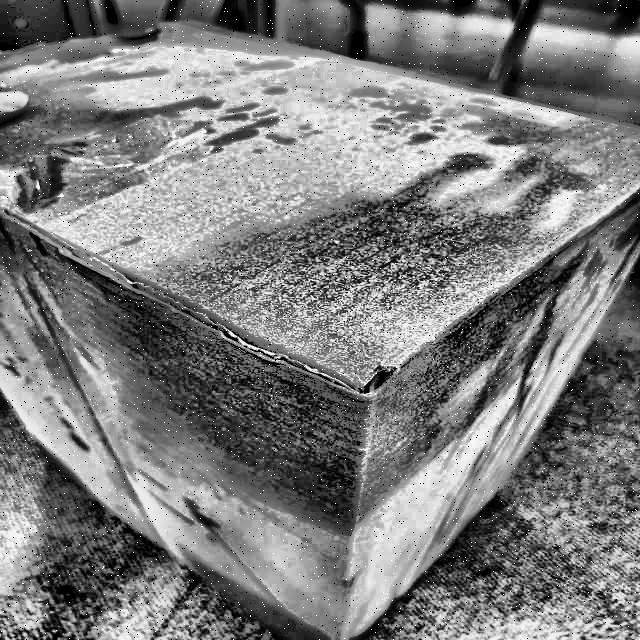box: (0, 16, 640, 640)
wet: (124, 194, 563, 522), (476, 89, 640, 226), (0, 67, 150, 196)
